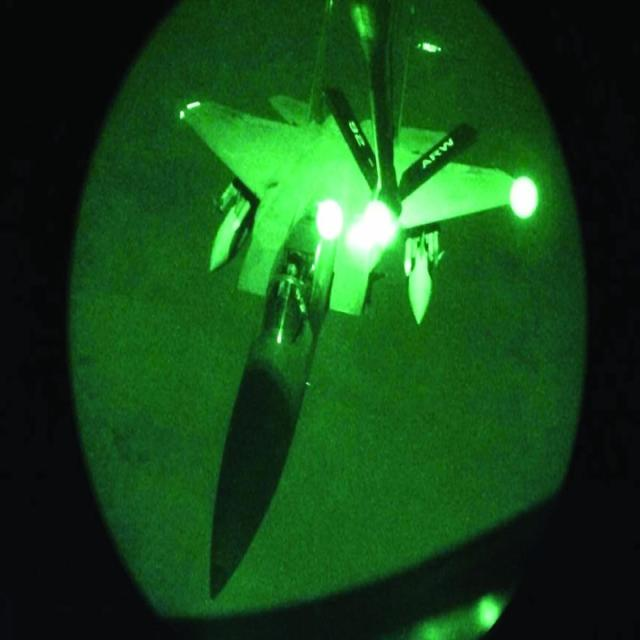MIL_Plane: (173, 1, 528, 600)
